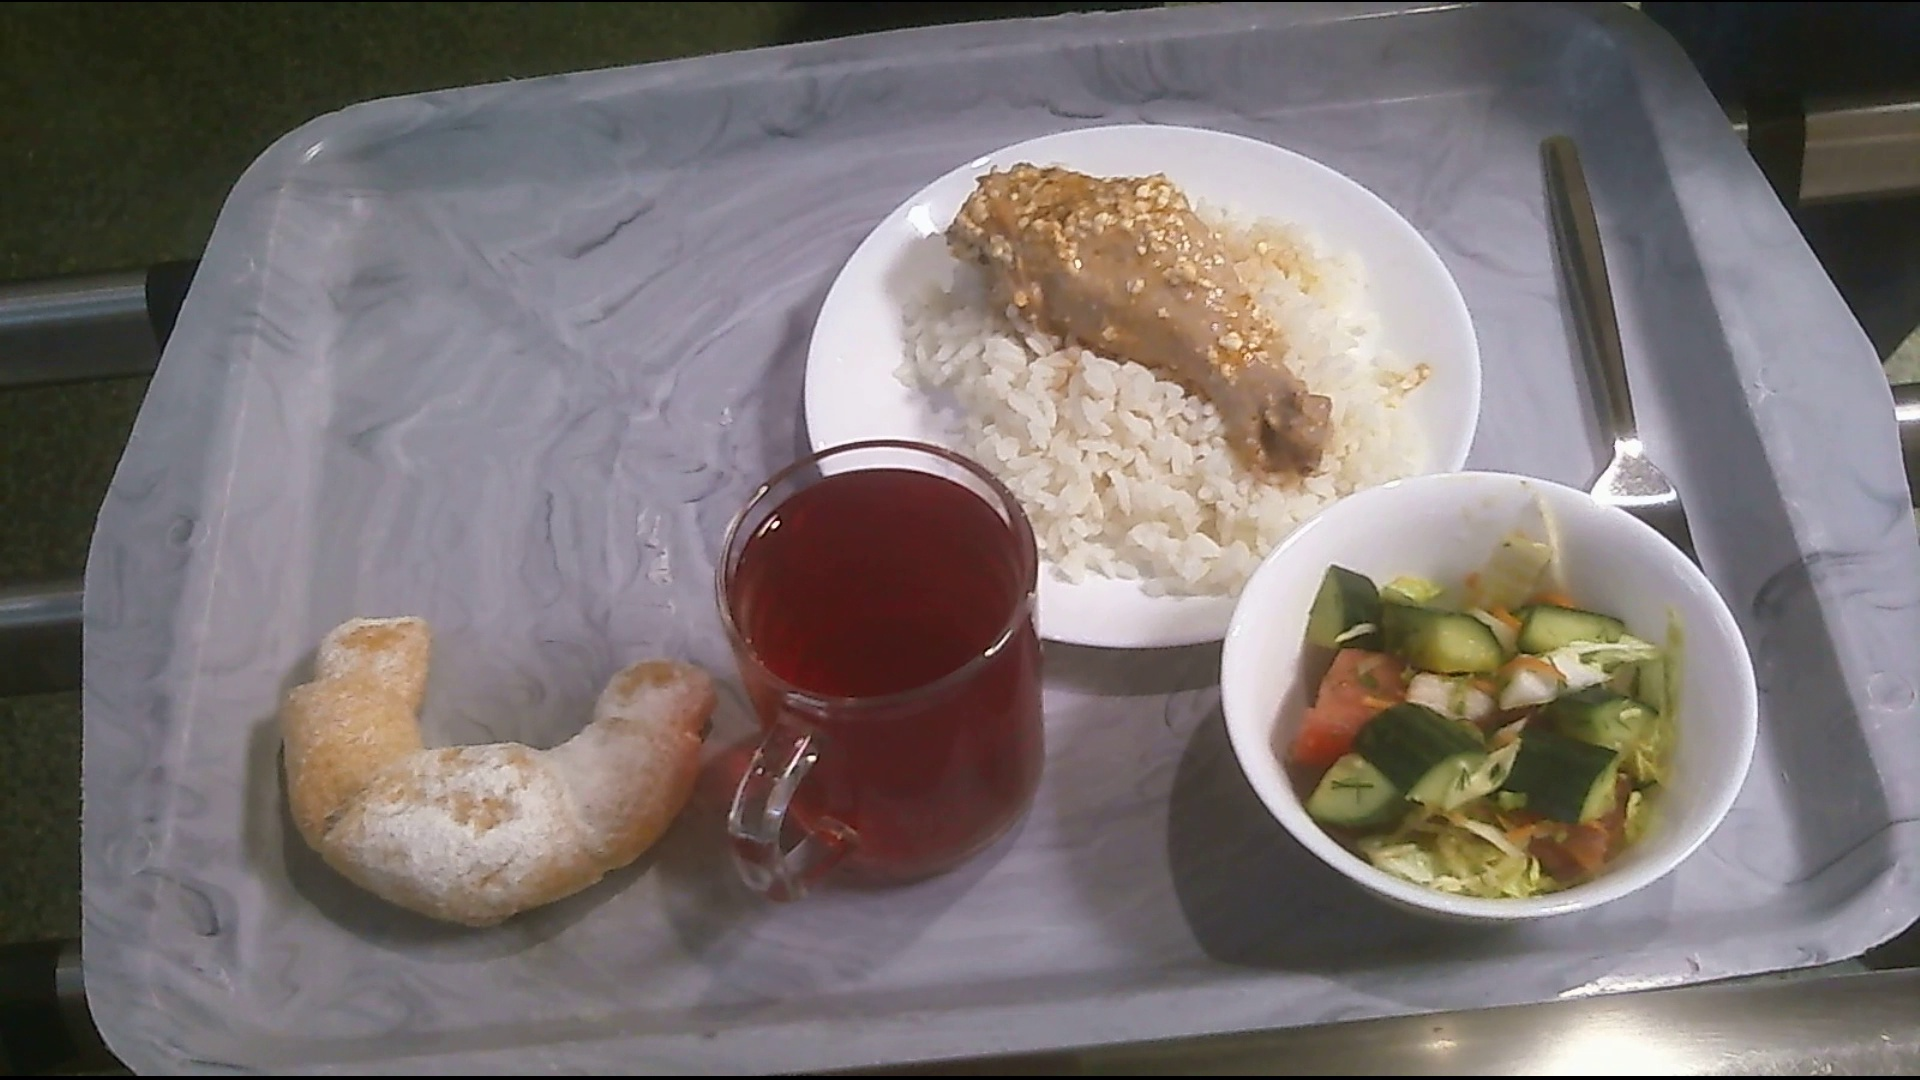bowl: (1229, 469, 1762, 944)
cutlery: (1538, 131, 1716, 582)
drink: (715, 440, 1067, 901)
other: (280, 615, 717, 927)
plate: (803, 124, 1480, 644)
